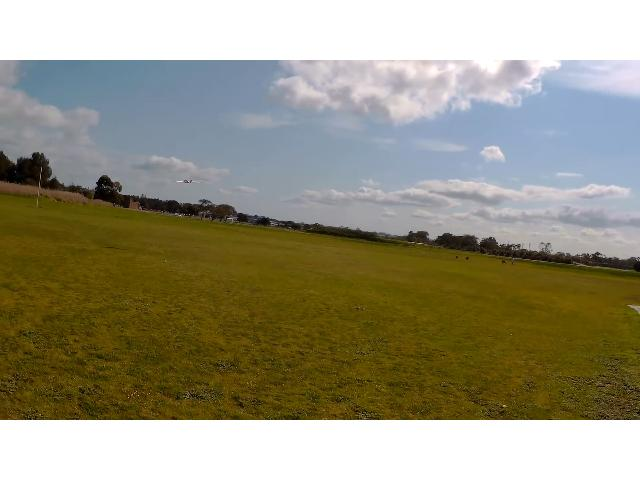Anti-Drone: (174, 179, 204, 185)
